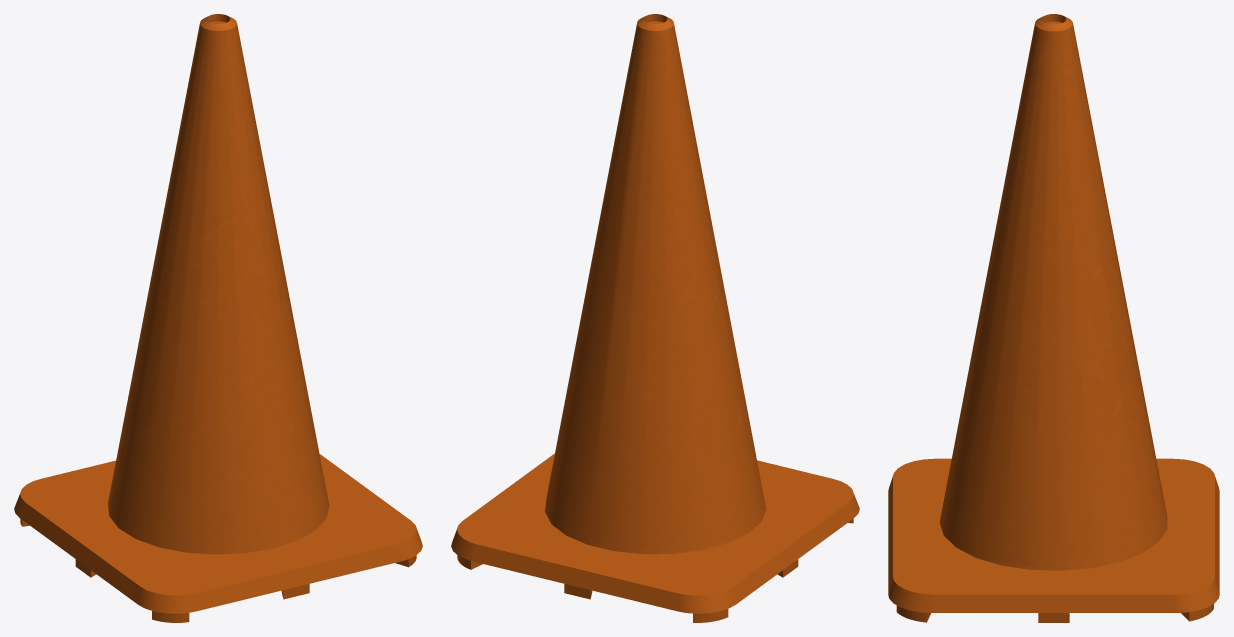
File: traffic-cone-1.glb
The picture shows the model from 3 angles, left to right: view 1: azimuth 30°, elevation 25°; view 2: azimuth 150°, elevation 25°; view 3: azimuth 270°, elevation 25°; orthographic projection. The views are drawn at different scales.
Parts seen in each view (by area): view 1: Object_73; view 2: Object_73; view 3: Object_73.
Part boxes in pixels (bbox=[...]): Object_73: bbox=[14, 14, 422, 622]; Object_73: bbox=[451, 14, 859, 622]; Object_73: bbox=[888, 14, 1219, 622].
Size of the model in its own units: 0.393 by 0.7005 by 0.3928.
1 material, 1 textured.
